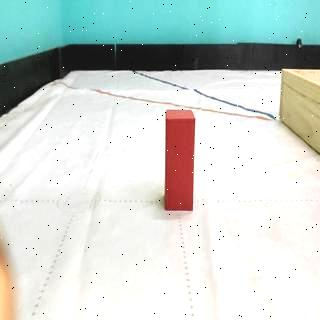redbox: (163, 108, 196, 210)
